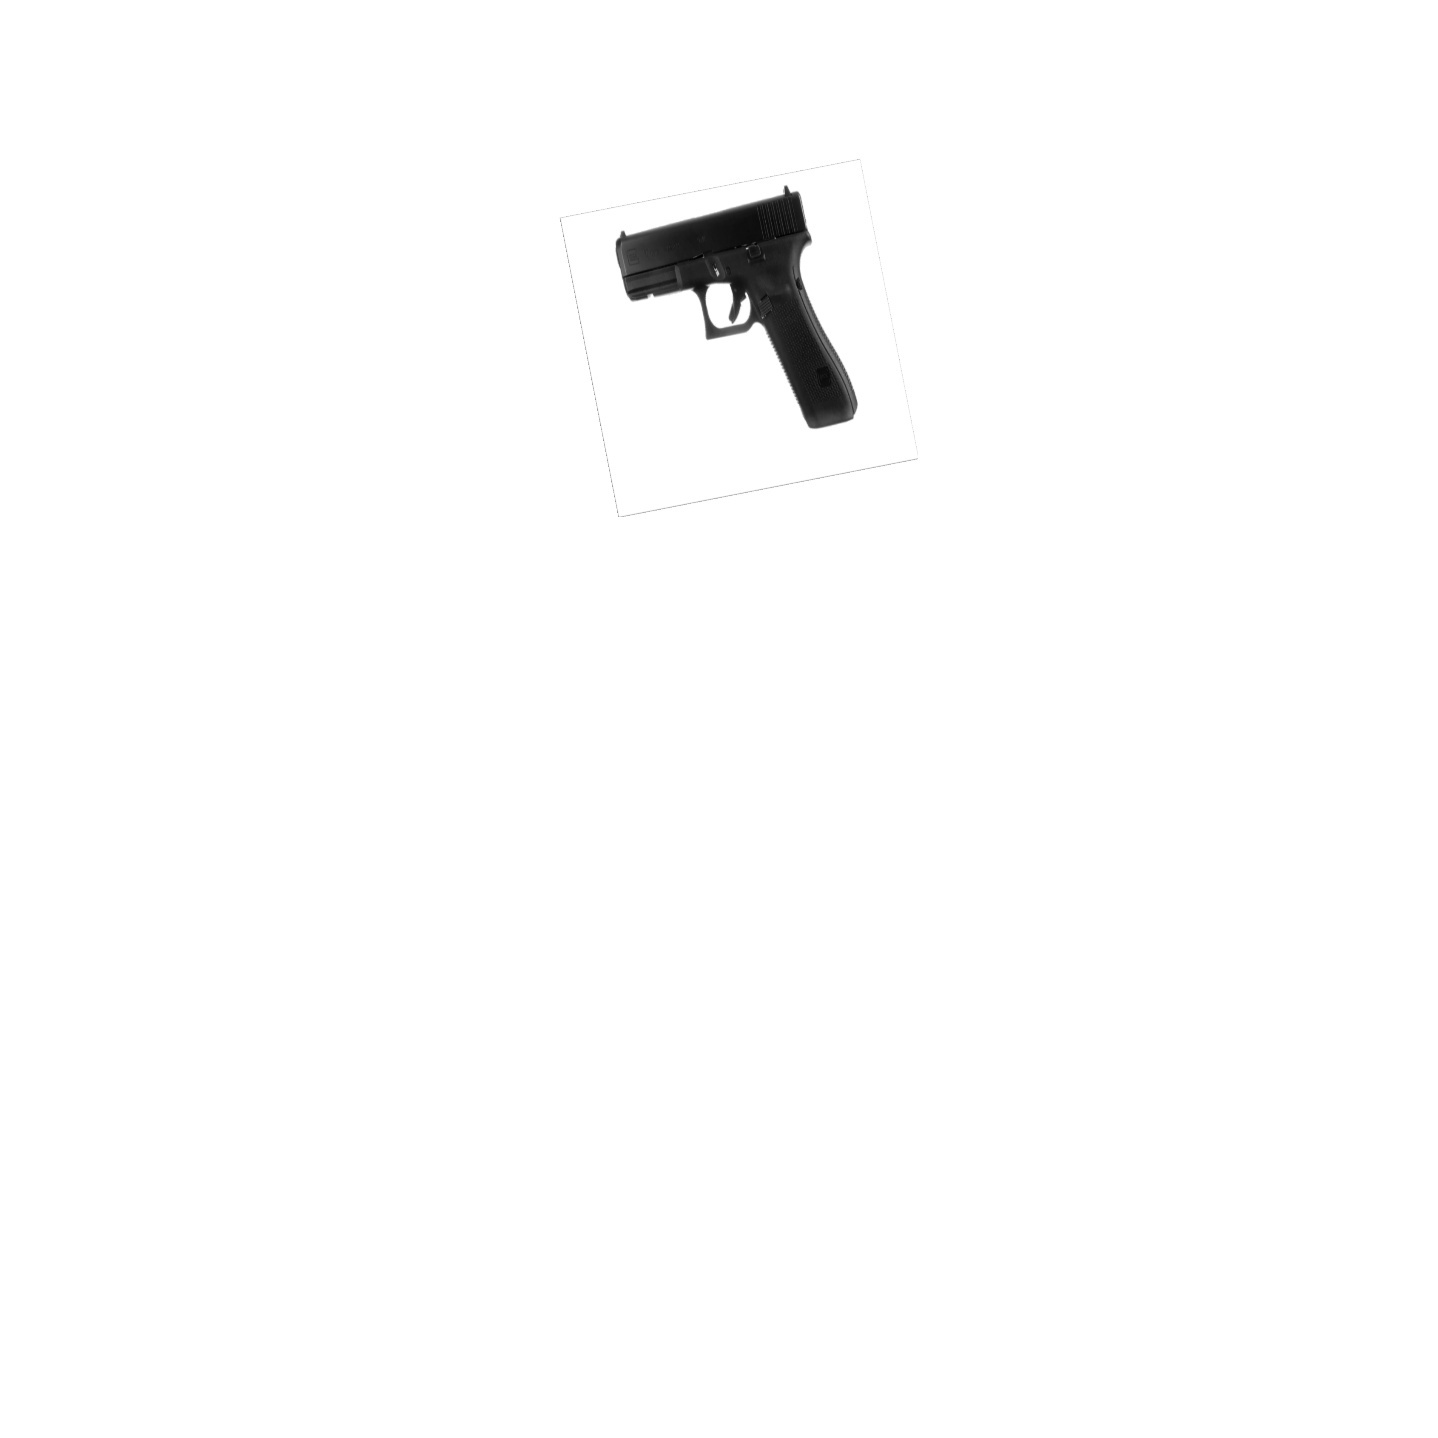gun: (614, 184, 860, 432)
